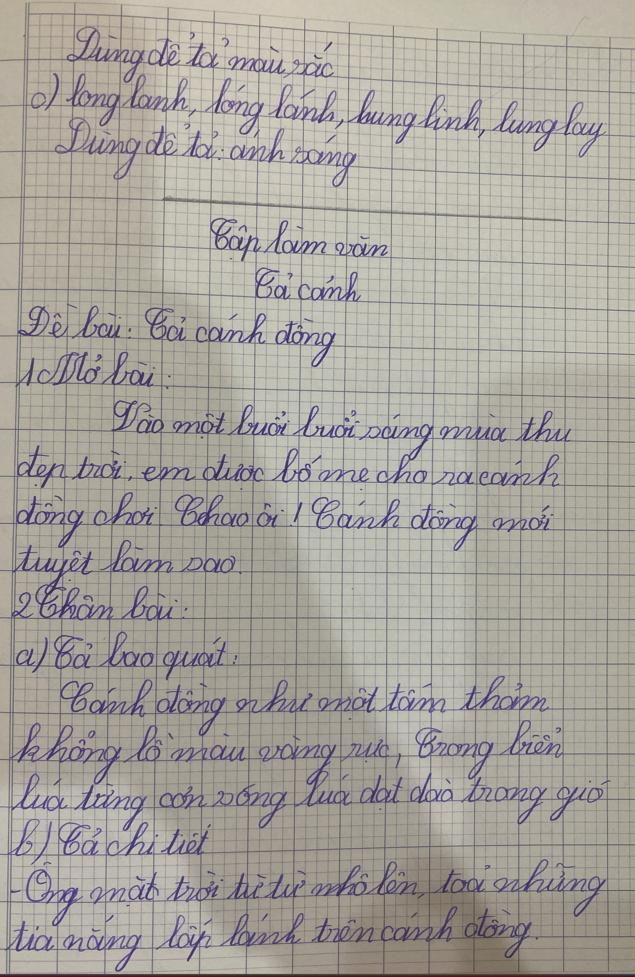text: (26, 64, 610, 161), (6, 856, 607, 930), (7, 716, 566, 789), (11, 770, 611, 837), (6, 901, 537, 973), (56, 670, 556, 740), (13, 489, 556, 553), (107, 396, 576, 463), (51, 113, 361, 194), (13, 449, 564, 494), (13, 299, 340, 371), (66, 20, 340, 87), (11, 536, 240, 596), (13, 629, 233, 683), (4, 814, 214, 870), (204, 210, 391, 269), (9, 583, 181, 627), (13, 346, 174, 393), (249, 263, 364, 309)
